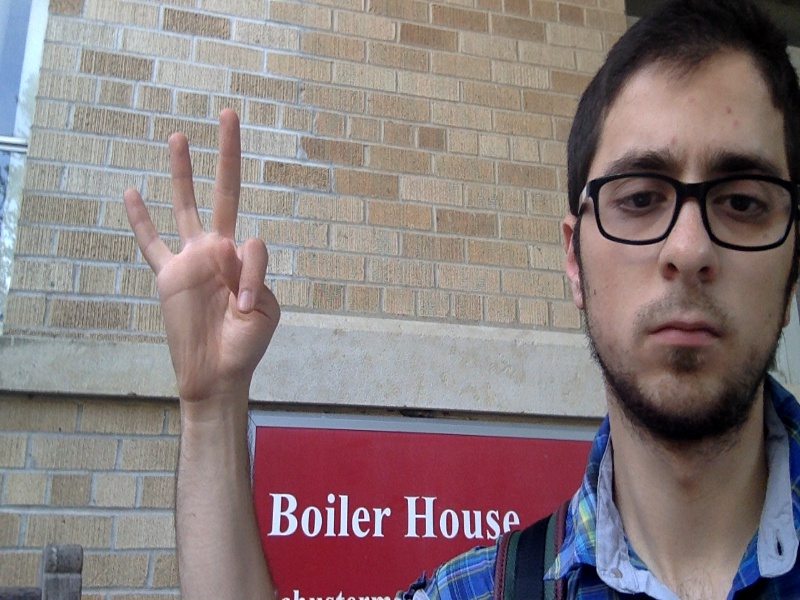3-hand: (125, 110, 282, 417)
